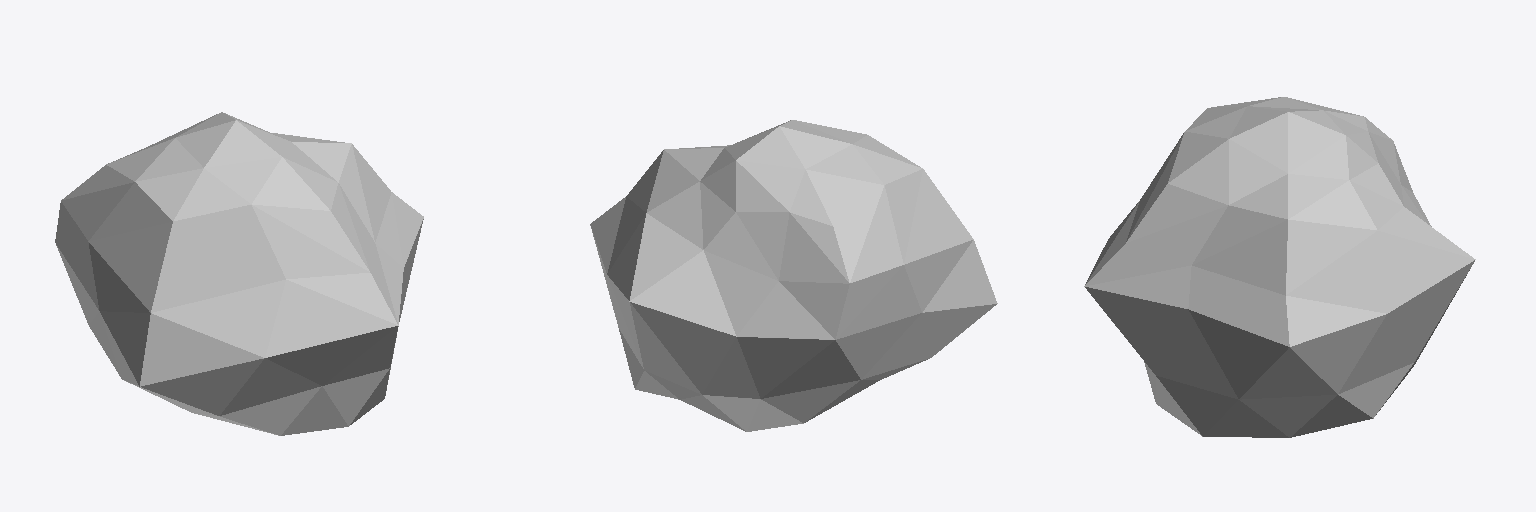
File: nugget.obj
3 renders of one model, left to right at view 1: azimuth 30°, elevation 25°; view 2: azimuth 150°, elevation 25°; view 3: azimuth 270°, elevation 25°, orthographic.
Visible parts, largest first — view 1: Icosphere; view 2: Icosphere; view 3: Icosphere.
Boxes of the visible parts, x1,y1,x2,y2 form: Icosphere: [55, 112, 423, 435]; Icosphere: [590, 120, 997, 431]; Icosphere: [1084, 97, 1475, 437].
Bounding box in the file's own units: 0.096 × 0.0725 × 0.0941.